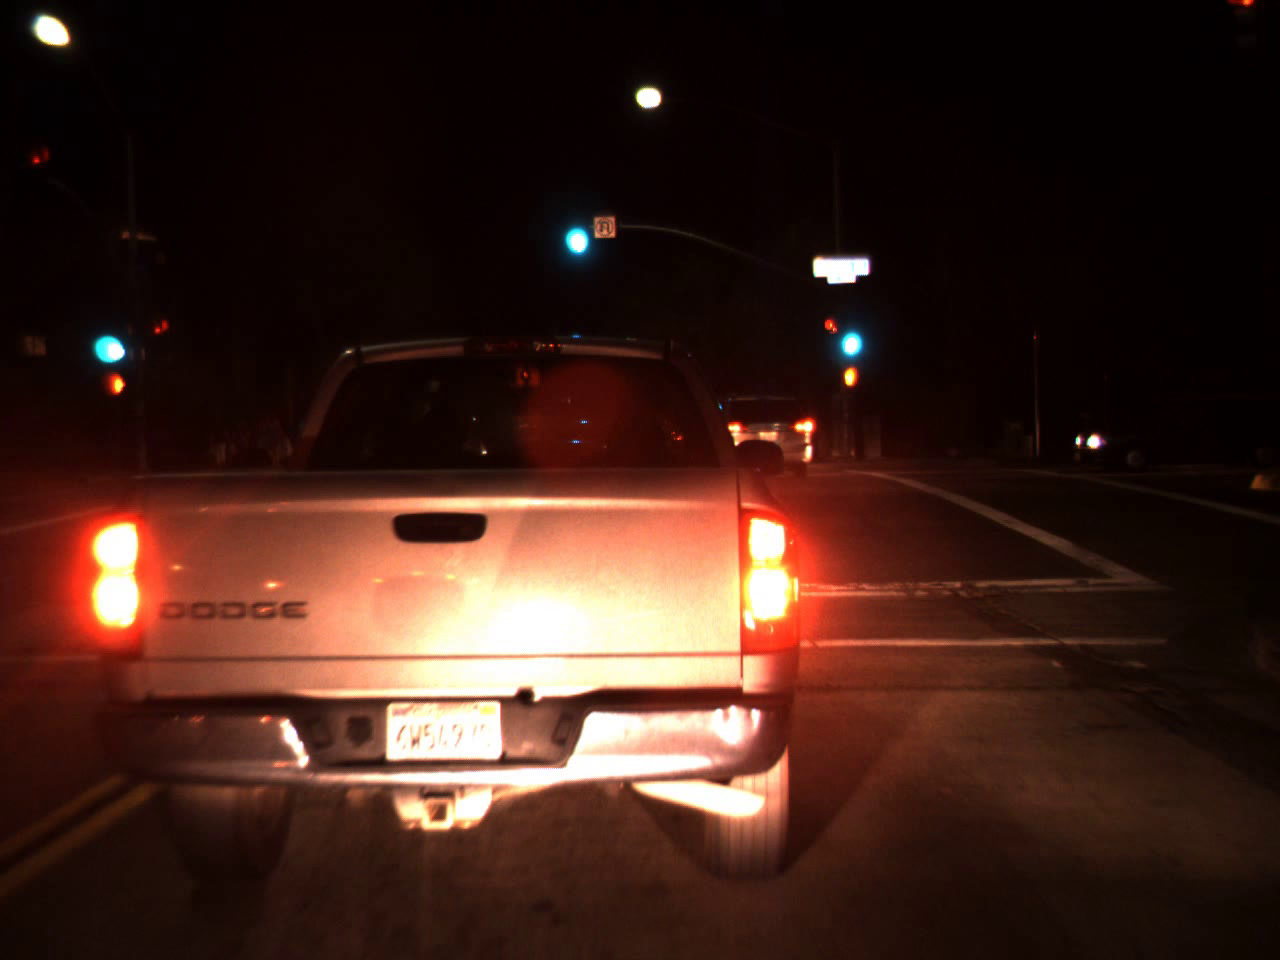go: (83, 299, 129, 374), (555, 193, 594, 265), (833, 301, 866, 367)
